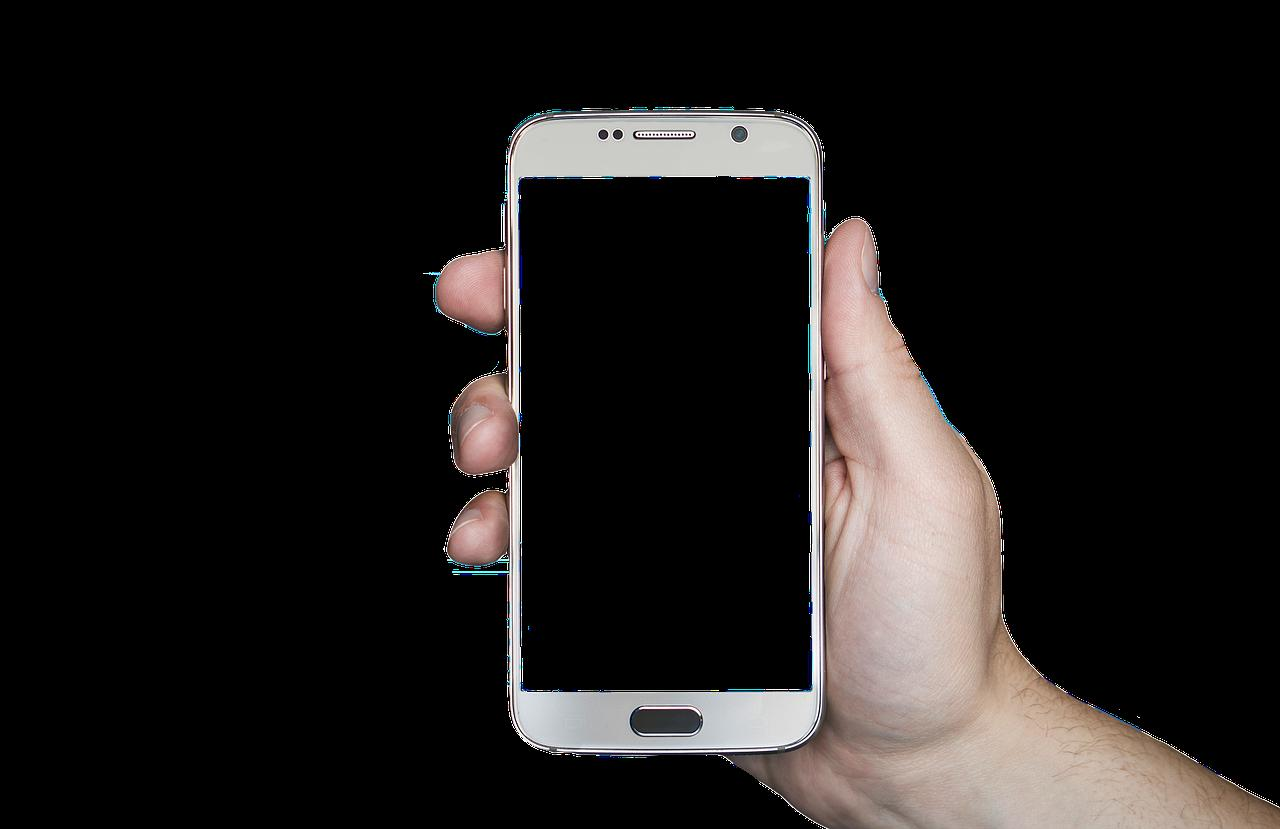Hand: (392, 213, 1013, 784)
Smartphone: (499, 110, 817, 749)
